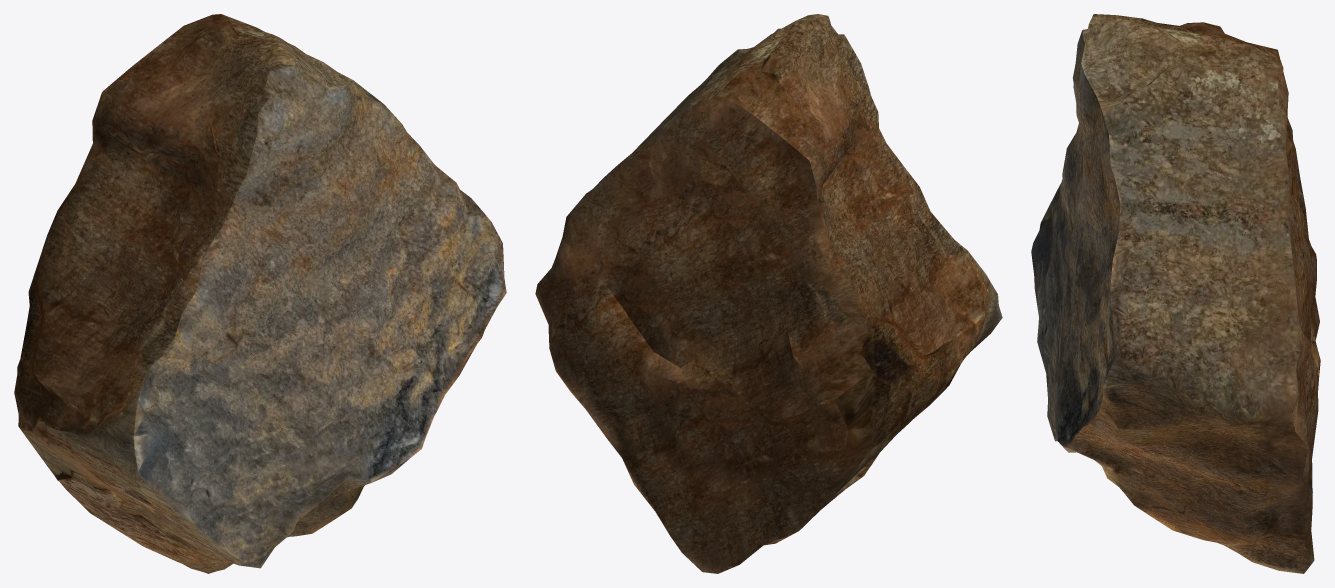
The model's file is standing_stone_broad.glb.
The picture shows the model from 3 angles, left to right: view 1: azimuth 30°, elevation 25°; view 2: azimuth 150°, elevation 25°; view 3: azimuth 270°, elevation 25°; orthographic projection. The views are drawn at different scales.
Parts seen in each view (by area): view 1: standing_stone_broad; view 2: standing_stone_broad; view 3: standing_stone_broad.
Boxes of the visible parts, x1,y1,x2,y2 form: standing_stone_broad: (14, 14, 506, 573); standing_stone_broad: (535, 14, 1002, 573); standing_stone_broad: (1031, 14, 1320, 573).
Bounding box in the file's own units: 3.14 × 3.99 × 1.92.
1 material, 1 textured.
